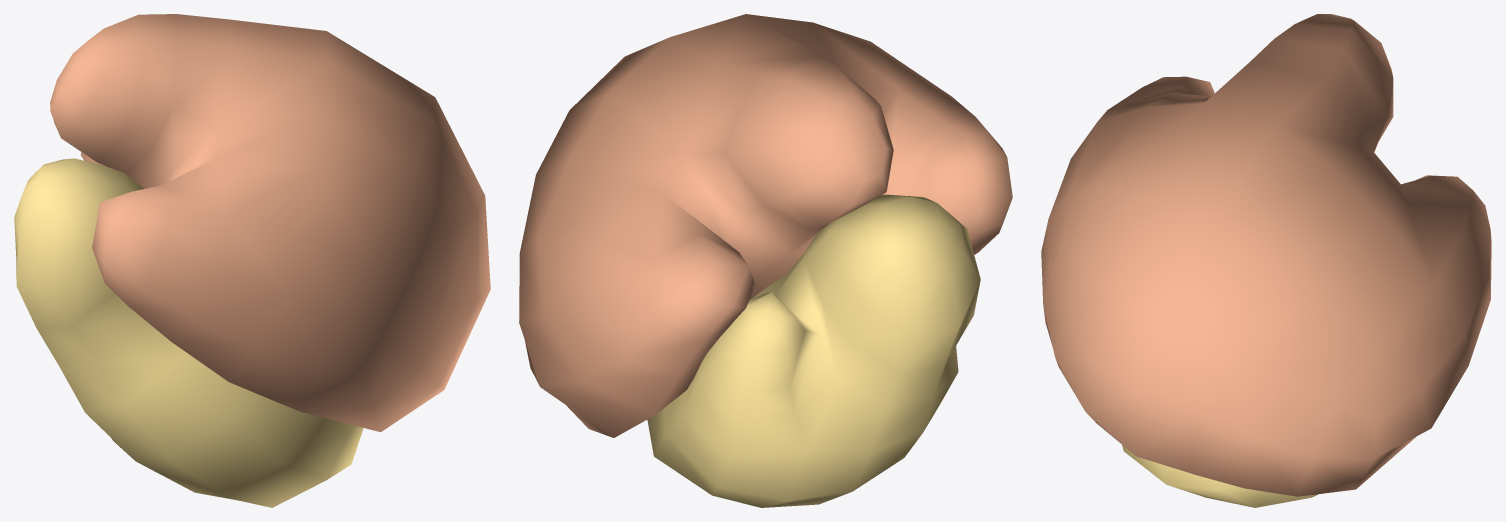
Rendered from ribosome.gltf.
3 views of the same model, side by side, from view 1: azimuth 30°, elevation 25°; view 2: azimuth 150°, elevation 25°; view 3: azimuth 270°, elevation 25° (orthographic). The views are drawn at different scales.
Visible parts, largest first — view 1: Ribosome_ER_529; view 2: Ribosome_ER_529; view 3: Ribosome_ER_529.
Boxes of the visible parts, box(x1,y1,x2,y2) form: Ribosome_ER_529: box(14, 14, 490, 507); Ribosome_ER_529: box(519, 14, 1012, 507); Ribosome_ER_529: box(1041, 14, 1491, 507).
Size of the model in its own units: 0.1853 by 0.1893 by 0.1781.
